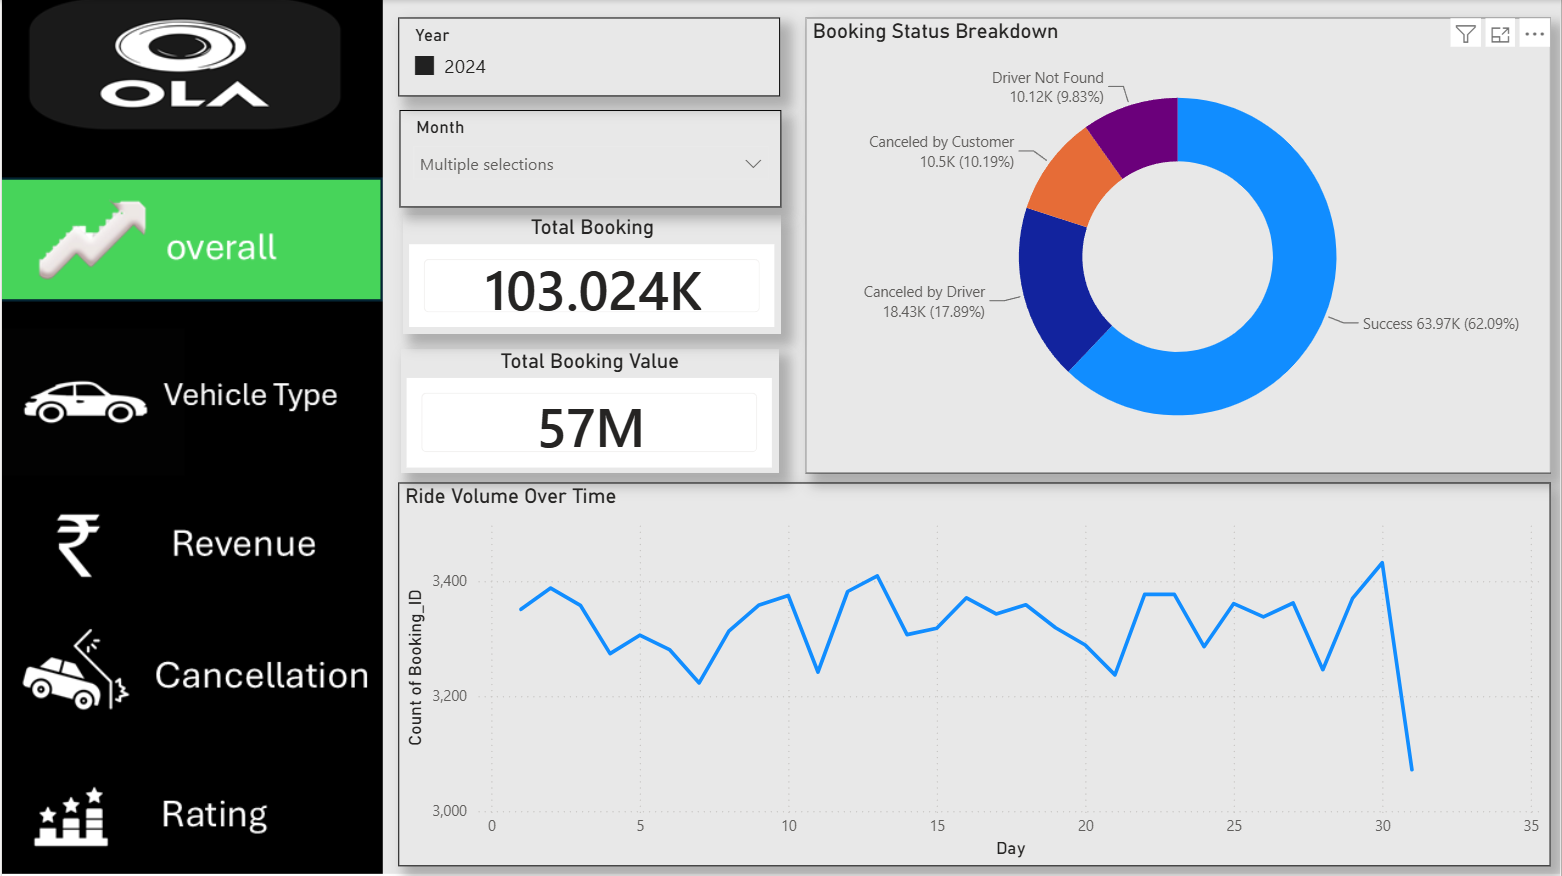

Layout of this report page (visuals, bound fields, positions):
{"tool":"powerbi","page":{"name":"Overall","canvas":[1280,720],"ordinal":0},"visuals":[{"type":"actionButton","box":[0,274.4,311.5,101.5],"z":0},{"type":"actionButton","box":[0,396.6,311.5,101.5],"z":1000},{"type":"actionButton","box":[0,498.1,311.5,101.5],"z":2000},{"type":"actionButton","box":[0,618.9,311.5,101.5],"z":3000},{"type":"lineChart","title":"Ride Volume Over Time","fields":{"Y":["CountNonNull(July.Booking_ID)"],"Category":["July.Date.Variation.Date Hierarchy.Day"]},"box":[325.6,396.5,946.5,315.1],"z":4000},{"type":"donutChart","title":"Booking Status Breakdown","fields":{"Category":["July.Booking_Status"],"Y":["CountNonNull(July.Booking_Status)"]},"box":[660.5,14,611.6,374.4],"z":5000},{"type":"slicer","title":"Booking Status Breakdown","fields":{"Values":["July.Date.Variation.Date Hierarchy.Month"]},"box":[326.7,90.7,314,80.2],"z":6000},{"type":"slicer","title":"Booking Status Breakdown","fields":{"Values":["July.Date.Variation.Date Hierarchy.Year"]},"box":[325.6,14,314,65.1],"z":7000},{"type":"cardVisual","title":"Total Booking","fields":{"Data":["CountNonNull(July.Booking_Status)"]},"box":[329.1,176.7,310.5,97.7],"z":8000},{"type":"cardVisual","title":"Total Booking Value","fields":{"Data":["Sum(July.Booking_Value)"]},"box":[327.9,286,310.5,102.3],"z":9000}]}

Visuals, with their boxes in screenshot pixels (x1, y1, x2, y2), scaled from the page's 1280x720 canvas onto the 1562x876 screenshot:
actionButton: x1=0 y1=334 x2=380 y2=457
actionButton: x1=0 y1=483 x2=380 y2=606
actionButton: x1=0 y1=606 x2=380 y2=730
actionButton: x1=0 y1=753 x2=380 y2=875
"Ride Volume Over Time" lineChart: x1=397 y1=482 x2=1552 y2=866
"Booking Status Breakdown" donutChart: x1=806 y1=17 x2=1552 y2=473
"Booking Status Breakdown" slicer: x1=399 y1=110 x2=782 y2=208
"Booking Status Breakdown" slicer: x1=397 y1=17 x2=781 y2=96
"Total Booking" cardVisual: x1=402 y1=215 x2=781 y2=334
"Total Booking Value" cardVisual: x1=400 y1=348 x2=779 y2=472
